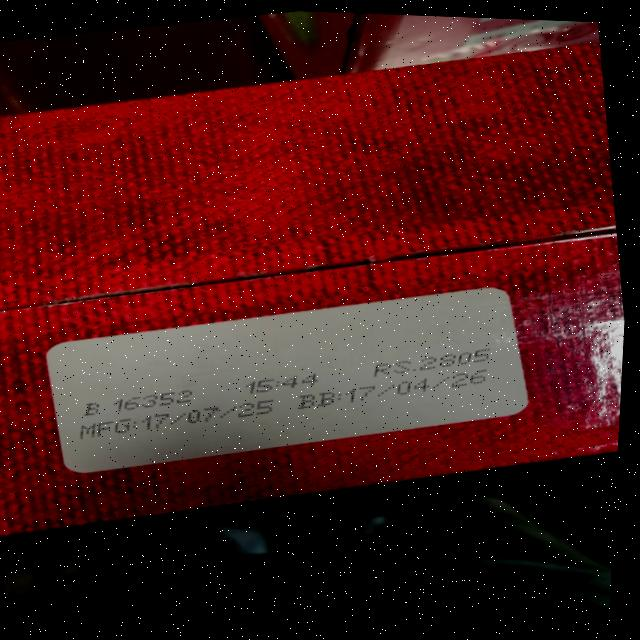BB: (297, 362, 497, 417)
Batch: (84, 386, 195, 420)
MFG: (75, 392, 279, 446)
RS: (369, 343, 498, 382)
TimeStamp: (244, 370, 320, 396)
